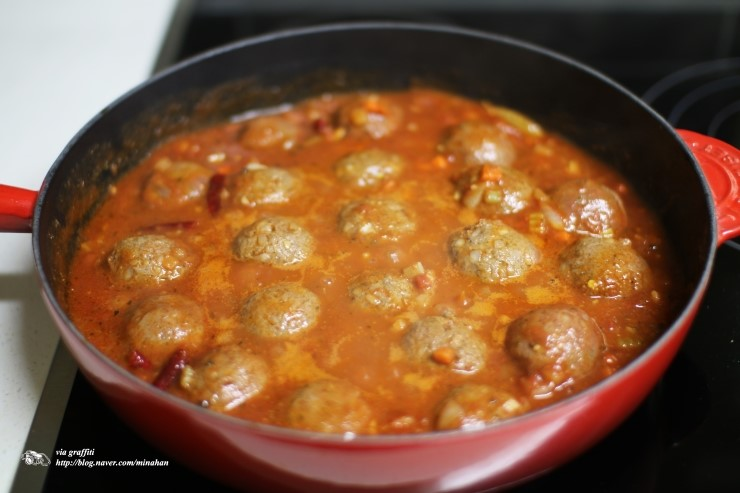meatballs: (448, 223, 543, 282), (399, 312, 494, 371), (341, 258, 436, 317), (505, 311, 605, 366), (293, 374, 383, 434), (187, 343, 277, 403), (235, 281, 325, 341), (122, 301, 212, 361), (432, 388, 522, 435), (112, 234, 189, 287), (235, 218, 312, 271), (336, 199, 413, 252), (460, 164, 537, 217), (552, 182, 620, 231), (570, 244, 638, 293), (442, 128, 518, 170), (334, 150, 410, 192), (227, 163, 303, 205), (140, 165, 216, 207)
